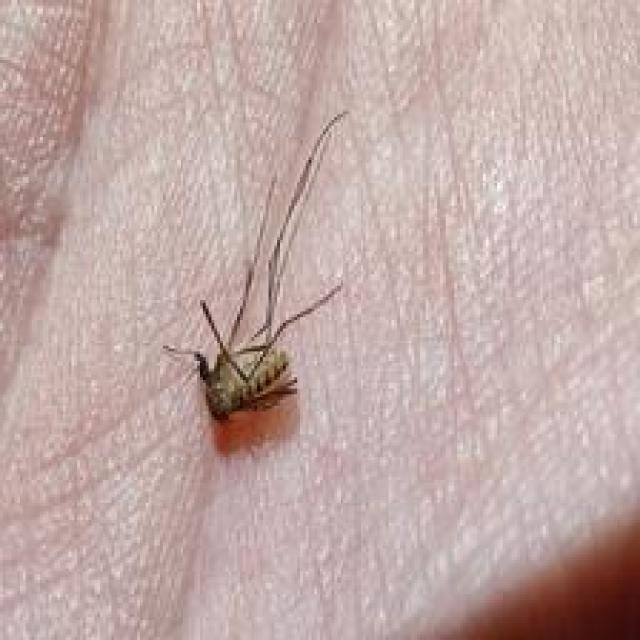Culex: (161, 108, 350, 426)
